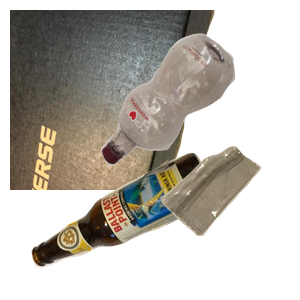cardboard: (10, 10, 217, 190)
glass: (29, 150, 238, 300)
plastic: (99, 31, 300, 189)
trash: (158, 144, 300, 300)
